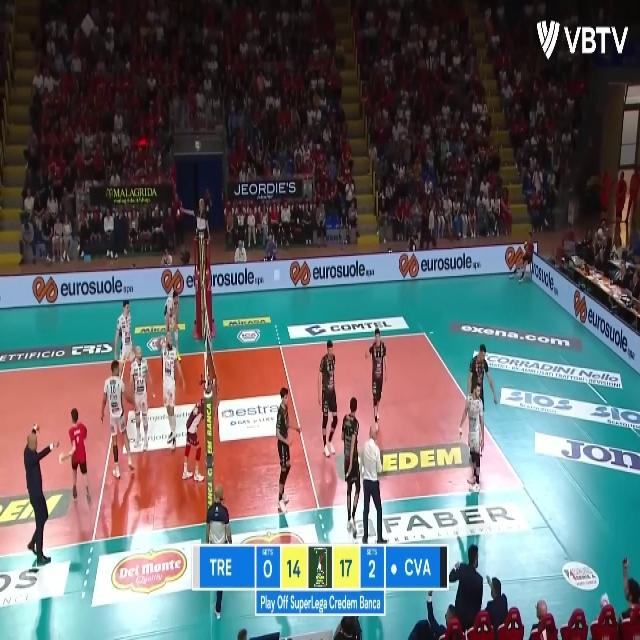volleyball court: (0, 329, 530, 556)
